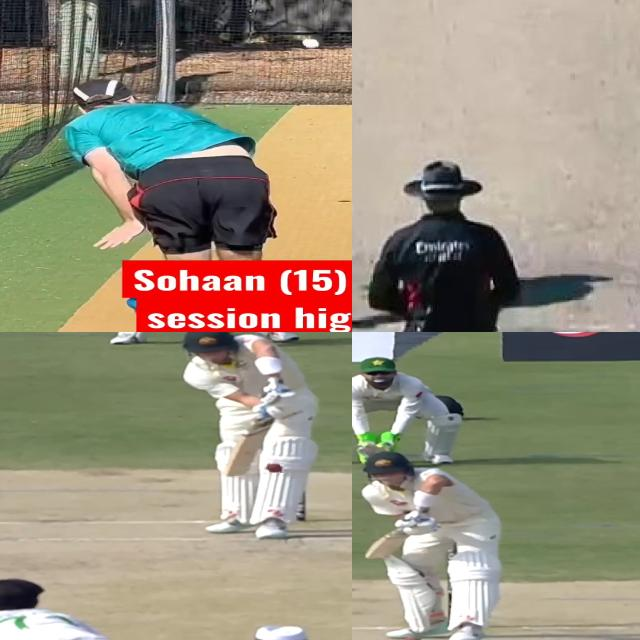Cricket ball: (264, 461, 284, 473), (301, 37, 320, 49), (402, 635, 420, 640)
